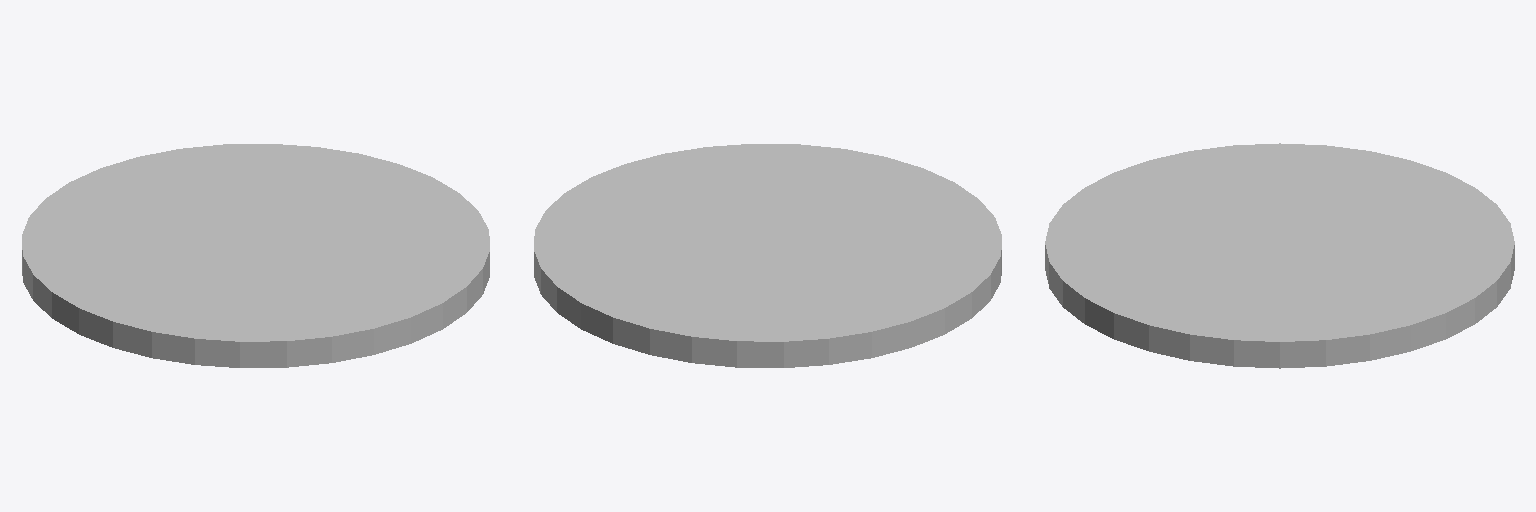
The model's file is d-light.obj.
3 views of the same model, side by side, from view 1: azimuth 30°, elevation 25°; view 2: azimuth 150°, elevation 25°; view 3: azimuth 270°, elevation 25° (orthographic).
Size of the model in its own units: 2 by 0.124 by 2.